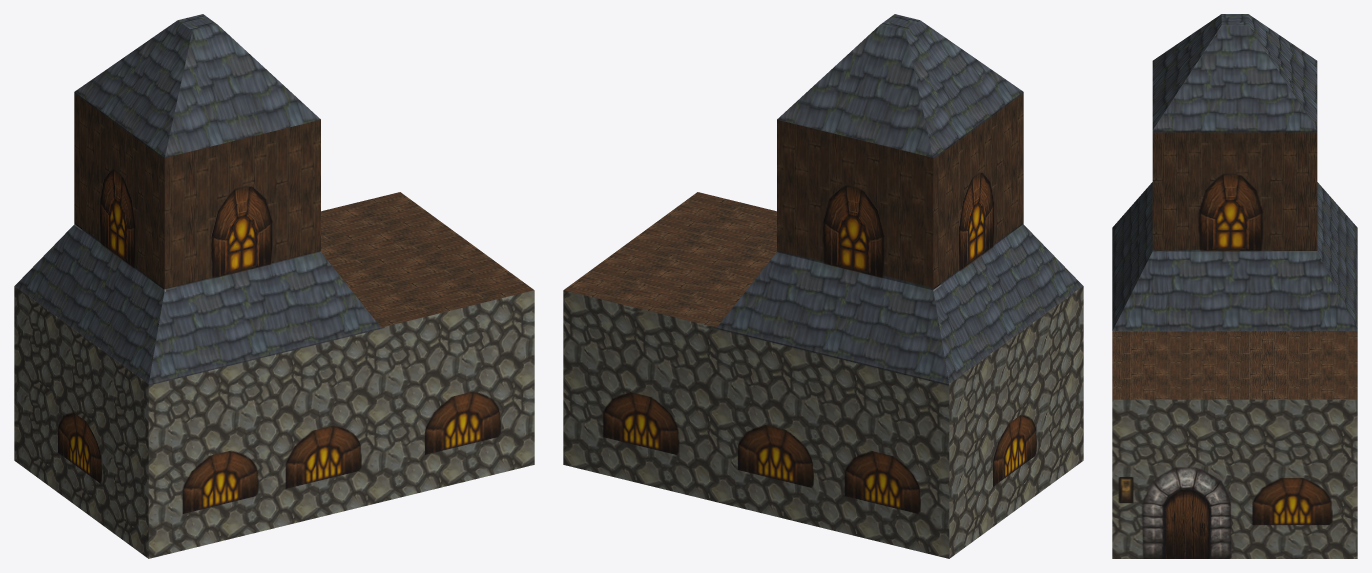
File: House2.fbx
3 renders of one model, left to right at view 1: azimuth 30°, elevation 25°; view 2: azimuth 150°, elevation 25°; view 3: azimuth 270°, elevation 25°, orthographic. The views are drawn at different scales.
Visible parts, largest first — view 1: pCube1; view 2: pCube1; view 3: pCube1.
Boxes of the visible parts, left/top/right/bottom form: pCube1: left=14, top=14, right=534, bottom=558; pCube1: left=563, top=14, right=1083, bottom=558; pCube1: left=1112, top=14, right=1357, bottom=558.
Bounding box in the file's own units: 29.91 × 34 × 18.02.
